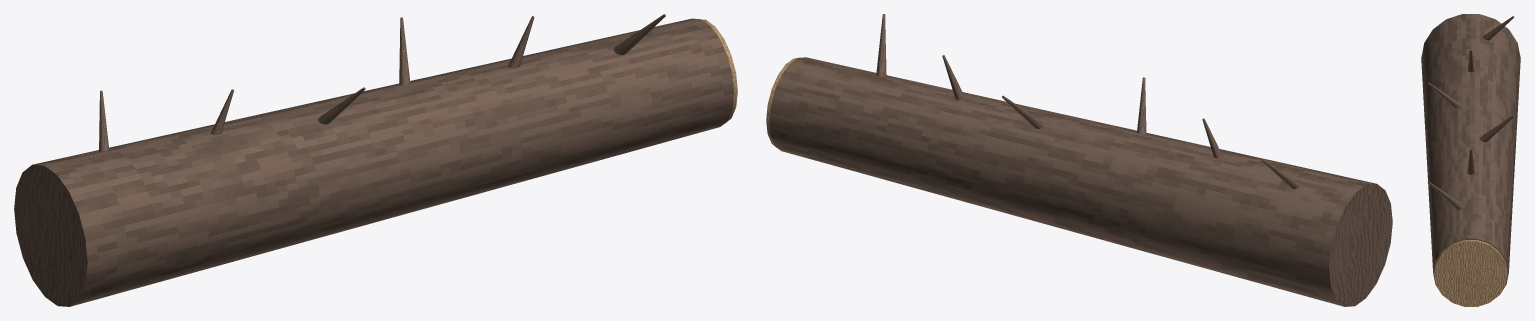
Rendered from deadlog01.glb.
3 views of the same model, side by side, from view 1: azimuth 30°, elevation 25°; view 2: azimuth 150°, elevation 25°; view 3: azimuth 270°, elevation 25° (orthographic). The views are drawn at different scales.
Parts seen in each view (by area): view 1: log, twig; view 2: log, twig; view 3: log, cut_end, twig.
Part boxes in pixels (left/top/right/bottom): log: left=14, top=18, right=734, bottom=306; twig: left=99, top=14, right=665, bottom=151; log: left=769, top=57, right=1392, bottom=306; twig: left=876, top=14, right=1299, bottom=188; log: left=1421, top=14, right=1520, bottom=294; cut_end: left=1434, top=240, right=1507, bottom=306; twig: left=1427, top=16, right=1514, bottom=210.
Bounding box in the file's own units: 2.18 × 0.5296 × 0.42.
2 materials, 2 textured.
